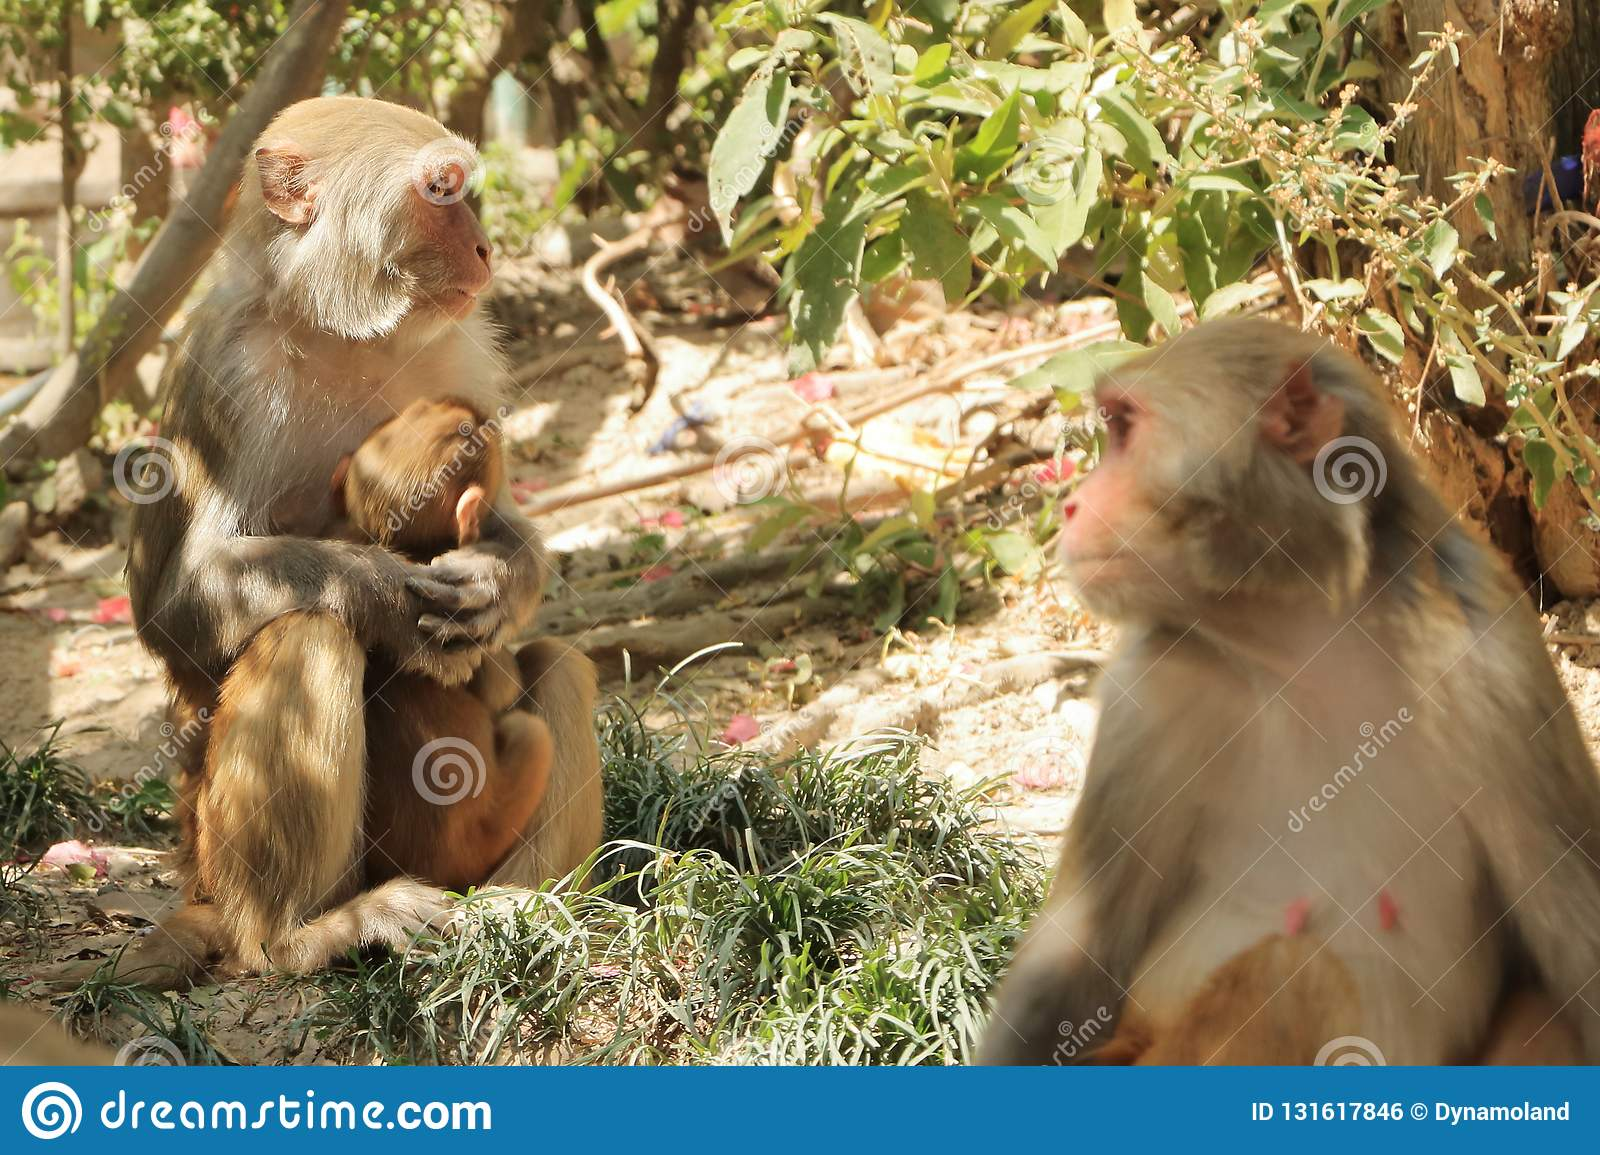monkey: (94, 94, 612, 1015), (994, 296, 1594, 1053), (329, 378, 557, 925)
